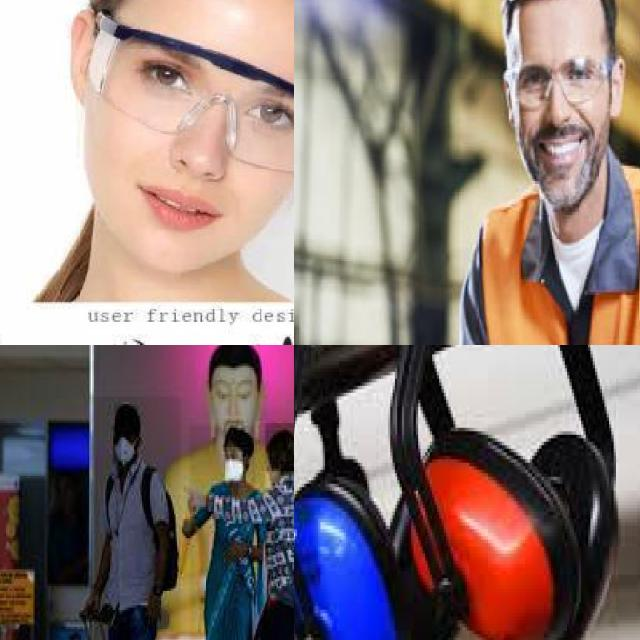Ear-protection: (404, 420, 576, 640), (294, 476, 406, 640)
face_mask: (113, 425, 137, 464), (225, 447, 243, 481)
face_nomask: (112, 35, 294, 262), (515, 54, 607, 170), (265, 452, 286, 488)
glasses: (82, 1, 294, 179), (496, 46, 618, 106)
head_nohelmet: (502, 0, 619, 31), (265, 423, 294, 471), (115, 404, 139, 433), (224, 421, 246, 452)
person: (431, 0, 640, 345), (94, 396, 182, 640), (190, 425, 257, 640), (250, 411, 294, 640)
vest: (470, 161, 640, 345)
